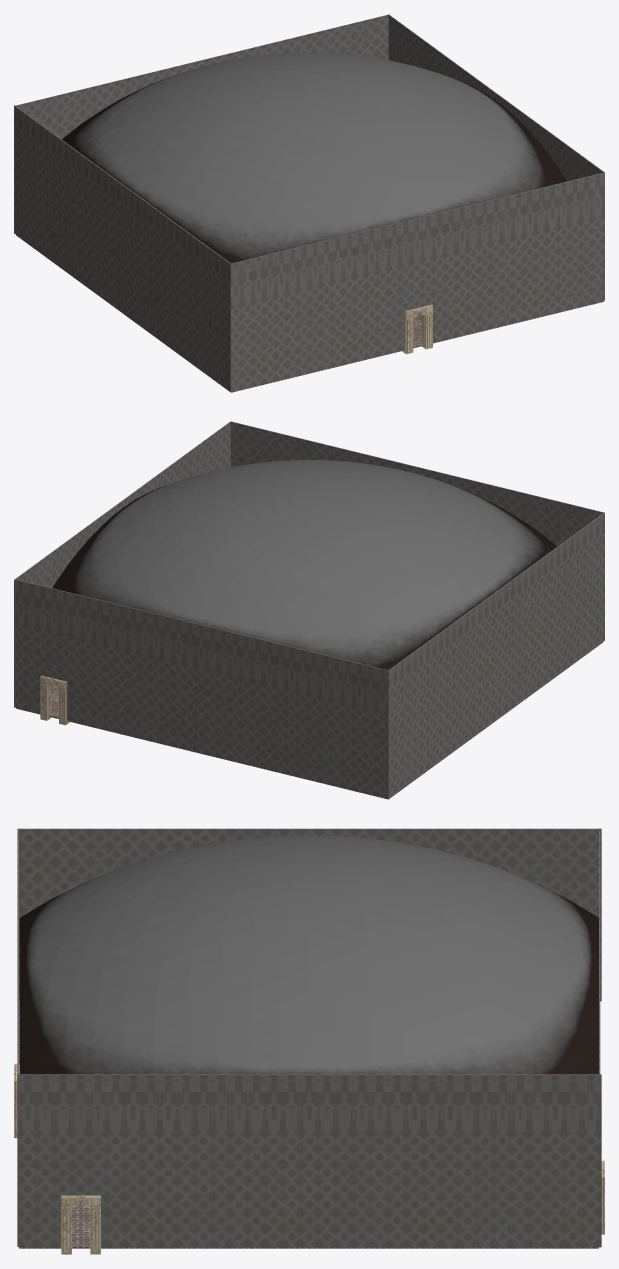
Rendered from ExposicionPrincipal_v2.fbx.
3 views of the same model, one above another, from view 1: azimuth 30°, elevation 25°; view 2: azimuth 150°, elevation 25°; view 3: azimuth 270°, elevation 25° (orthographic). The views are drawn at different scales.
Parts seen in each view (by area): view 1: m_techoRedondo_low, m_pared3_low, m_pared_low, m_pared2_low, m_pared4_low, m_piso; view 2: m_techoRedondo_low, m_pared2_low, m_pared_low, m_pared3_low, m_pared4_low, m_piso; view 3: m_techoRedondo_low, m_pared4_low, m_pared_low, m_piso, m_pared3_low, m_pilar_low.022, m_pilar_low.023.
Boxes of the visible parts, box(x1,y1,x2,y2) form: m_techoRedondo_low: box(62, 52, 567, 263); m_pared3_low: box(230, 172, 604, 391); m_pared_low: box(14, 105, 230, 391); m_pared2_low: box(14, 14, 388, 233); m_pared4_low: box(388, 14, 604, 181); m_piso: box(16, 235, 603, 392); m_techoRedondo_low: box(52, 460, 557, 670); m_pared2_low: box(15, 579, 389, 798); m_pared_low: box(387, 513, 604, 798); m_pared3_low: box(231, 421, 604, 546); m_pared4_low: box(14, 421, 230, 707); m_piso: box(16, 642, 603, 799); m_techoRedondo_low: box(19, 835, 598, 1074); m_pared4_low: box(18, 1074, 601, 1247); m_pared_low: box(19, 828, 601, 1001); m_piso: box(19, 1001, 598, 1248); m_pared3_low: box(17, 828, 18, 1246); m_pilar_low.022: box(61, 1195, 79, 1254); m_pilar_low.023: box(83, 1195, 100, 1254).
Bounding box in the file's own units: 7884 × 3542 × 7926.
